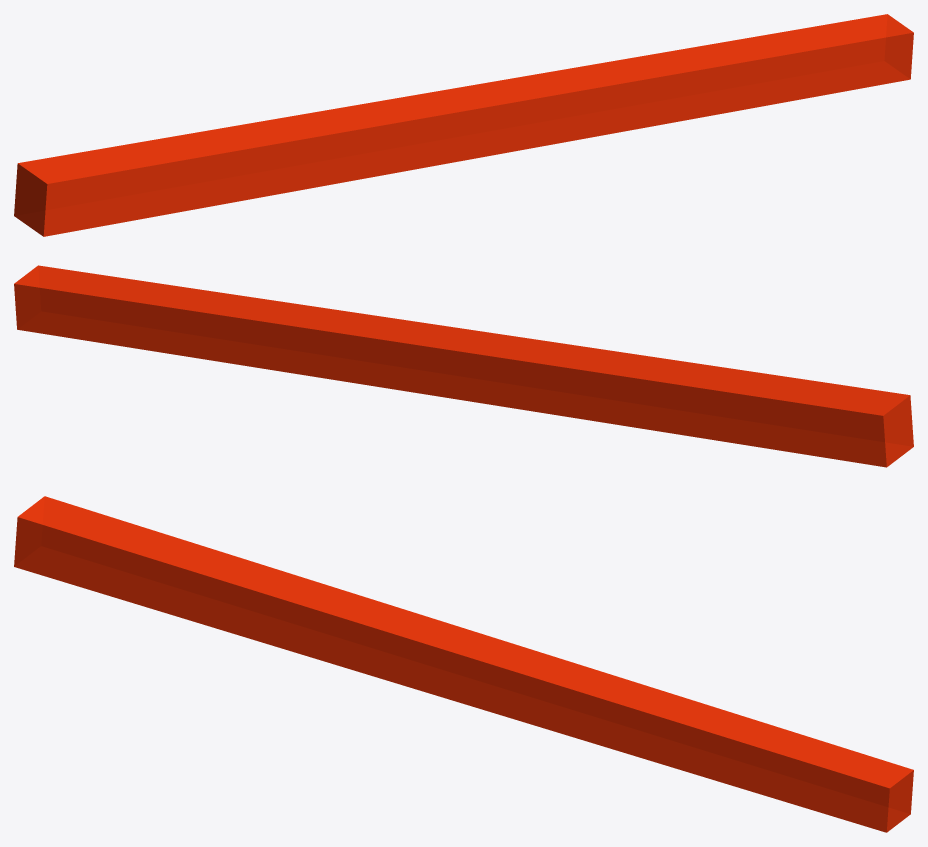
File: Event_421278790_EErechit_7.fbx
3 renders of one model, top to bottom at view 1: azimuth 30°, elevation 25°; view 2: azimuth 150°, elevation 25°; view 3: azimuth 330°, elevation 25°, orthographic. The views are drawn at different scales.
Visible parts, largest first — view 1: Model; view 2: Model; view 3: Model.
Boxes of the visible parts, x1,y1,x2,y2 form: Model: (14, 14, 913, 236); Model: (14, 265, 913, 467); Model: (14, 496, 913, 832).
Bounding box in the file's own units: 1.45 × 0.1861 × 0.1089.
